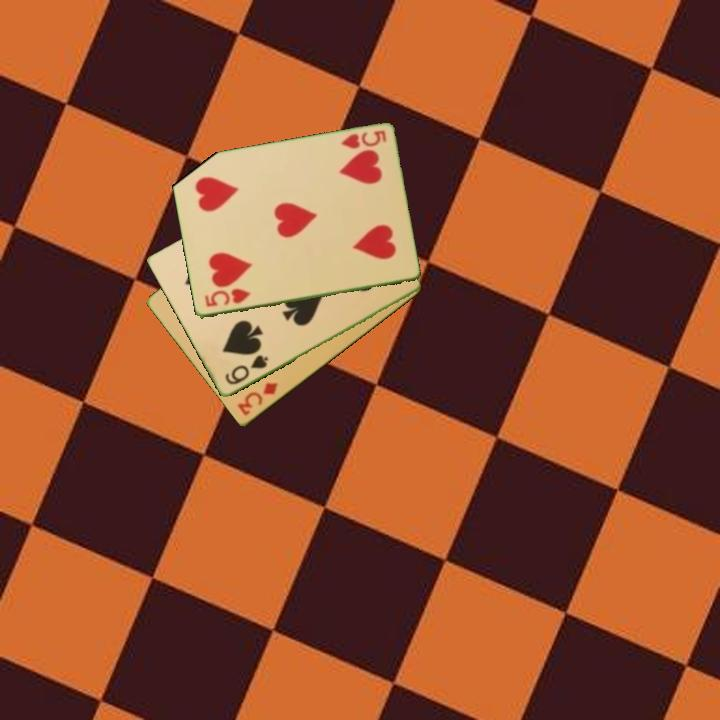3d: (234, 379, 280, 419)
5h: (201, 285, 253, 310), (337, 127, 389, 152)
6s: (221, 352, 271, 388)
